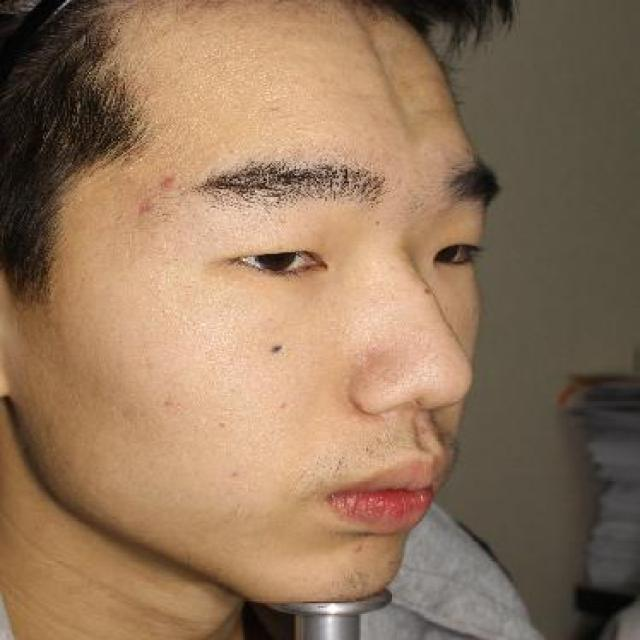Acne: (132, 192, 161, 218), (154, 168, 180, 192), (351, 541, 366, 557)
Blackheads: (258, 337, 300, 365)
Dark-Spots: (419, 285, 436, 298), (372, 218, 384, 230)
